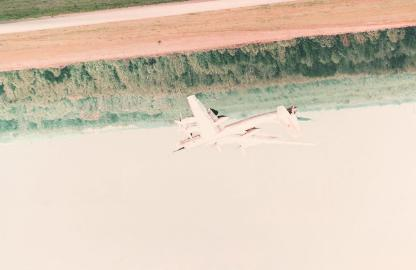Su57: (172, 95, 320, 157)
